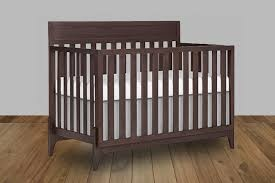crib: (48, 21, 234, 170)
